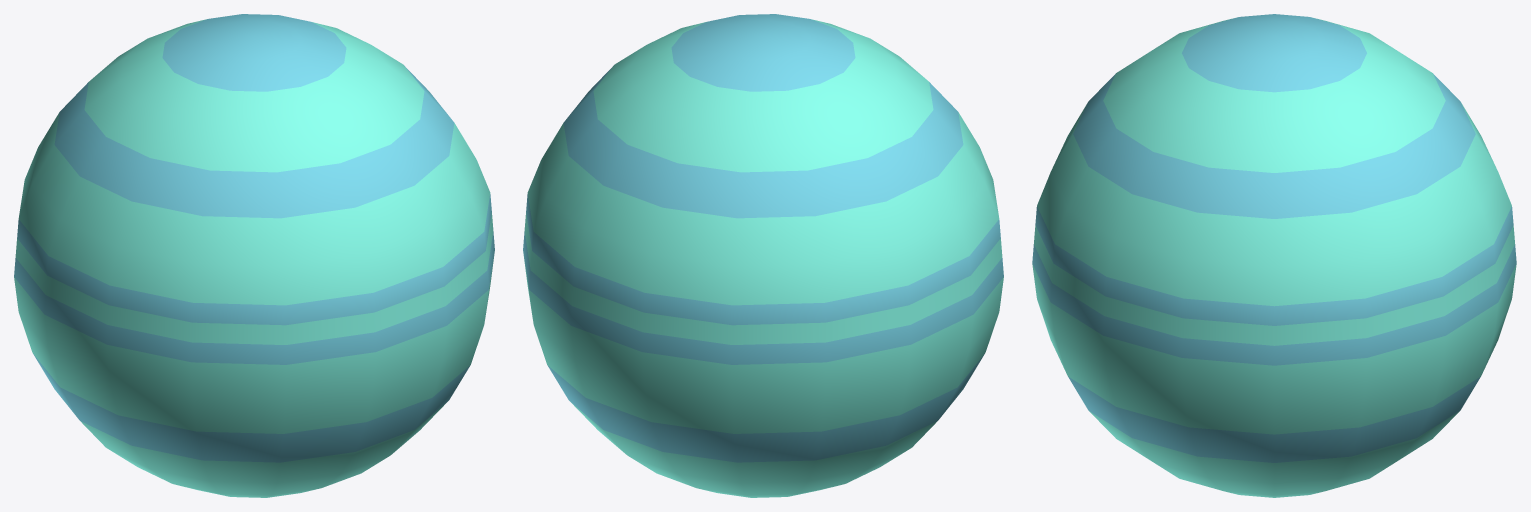
File: blue_ball.fbx
The picture shows the model from 3 angles, left to right: view 1: azimuth 30°, elevation 25°; view 2: azimuth 150°, elevation 25°; view 3: azimuth 270°, elevation 25°; orthographic projection.
Parts seen in each view (by area): view 1: blue_ball; view 2: blue_ball; view 3: blue_ball.
Part boxes in pixels (box(x1,y1,x2,y2)): blue_ball: box(14, 14, 494, 497); blue_ball: box(523, 14, 1003, 497); blue_ball: box(1032, 14, 1516, 497).
Size of the model in its own units: 0.7432 by 0.7432 by 0.7432.
Materials: 1 (1 with a texture image).
